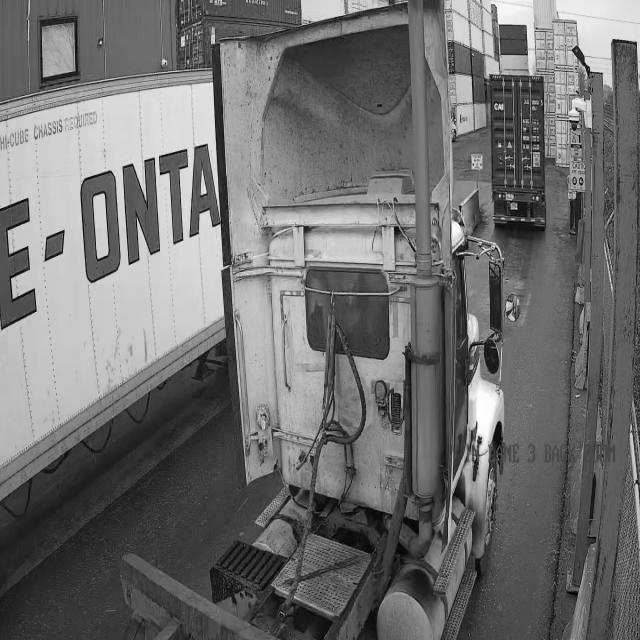container_company_logo: (0, 73, 224, 500)
license_plate: (195, 0, 504, 639)
